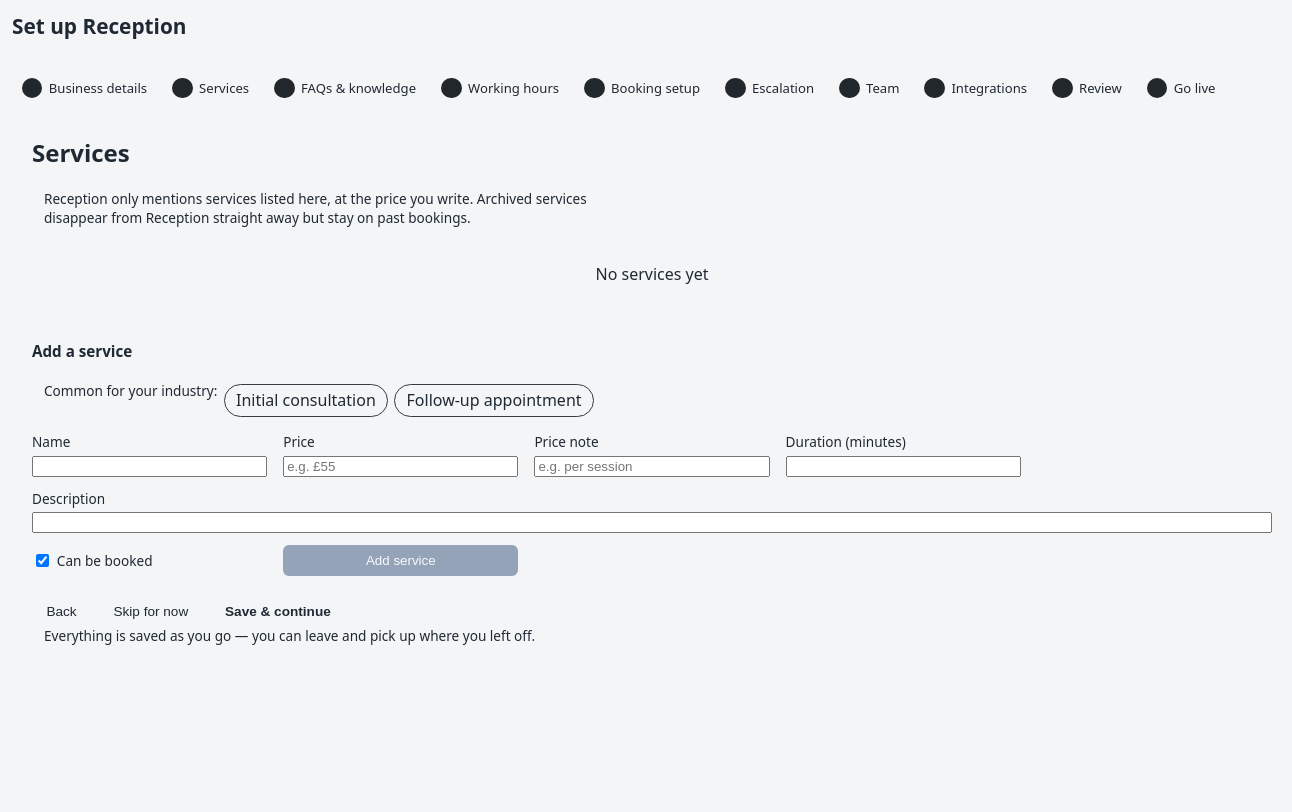
Test: setup wizard › shows the server's refusal instead of advancing
This screenshot has width=1292, height=812.
What coordinates should you click on to do the following:
click the button "Save & continue"
I would click on:
 (278, 611)
Its box is [211,596,345,626].
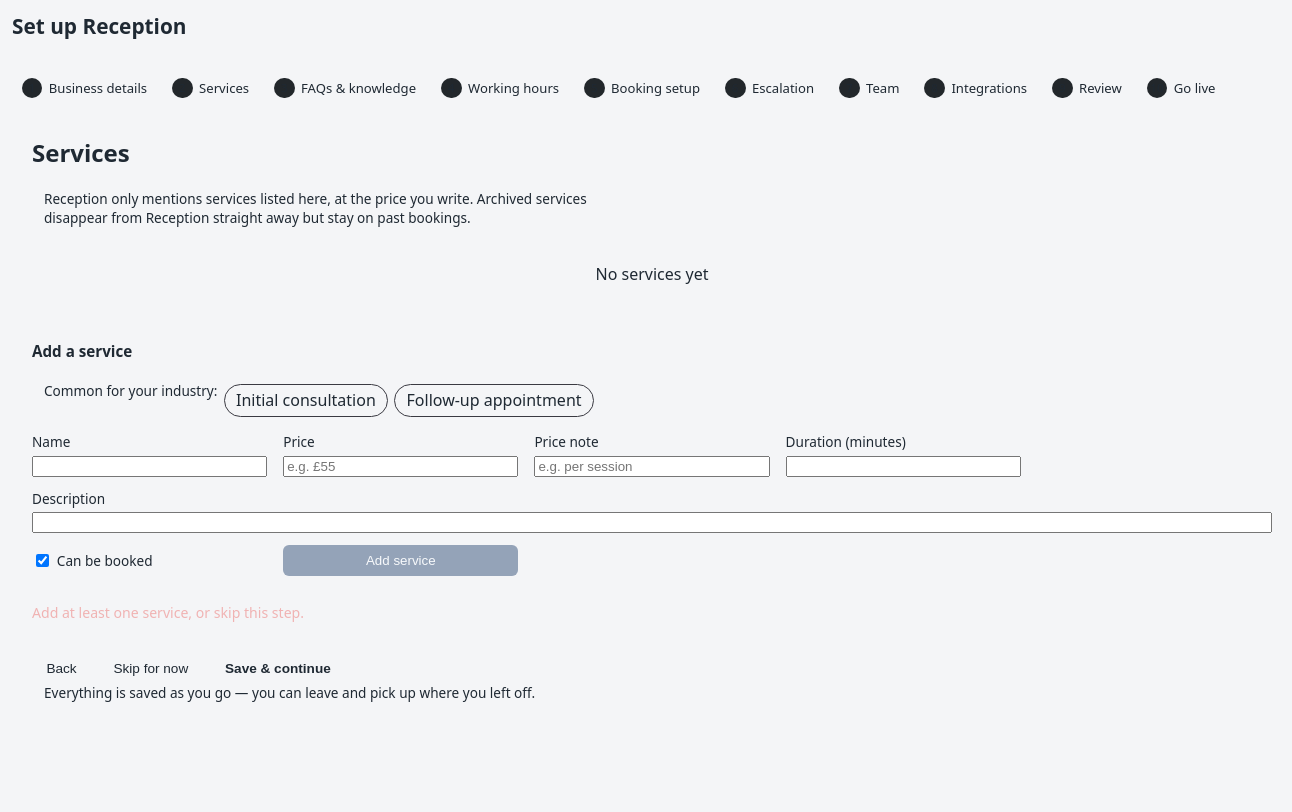
Expected: the heading with test id "setup-step-title" reads "Services", [32,136,130,169]
Result: the message with test id "setup-error" shows "Add at least one service" at [32,603,304,622]
